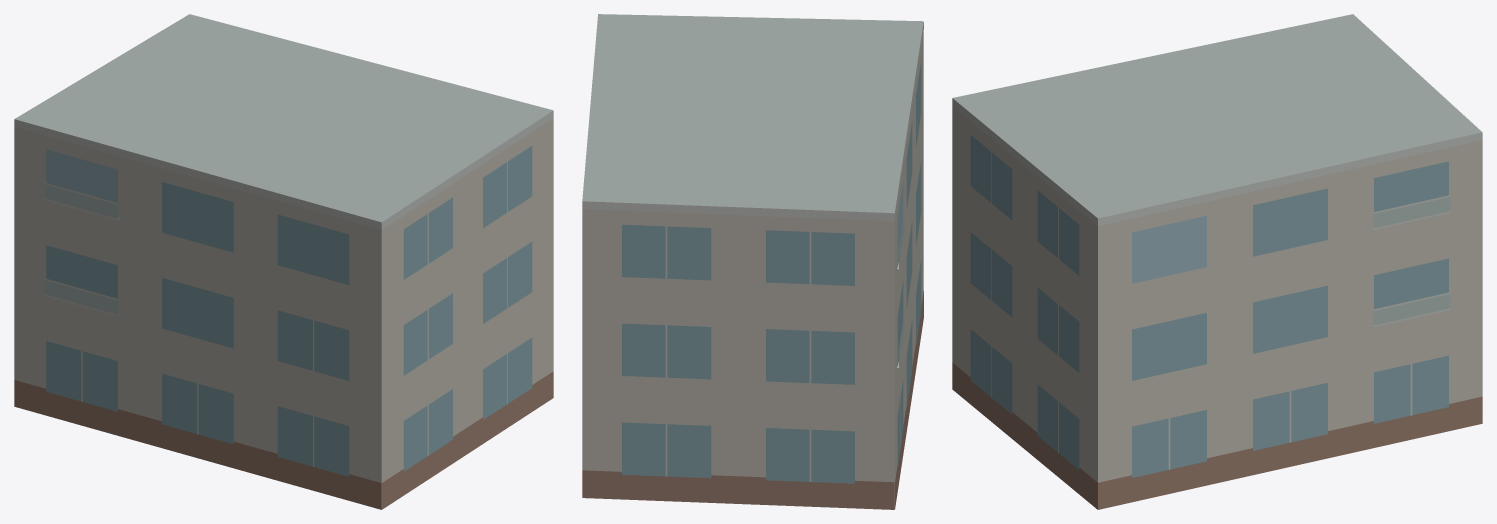
Rendered from survey-upis-32778413.glb.
The picture shows the model from 3 angles, left to right: view 1: azimuth 30°, elevation 25°; view 2: azimuth 150°, elevation 25°; view 3: azimuth 270°, elevation 25°; orthographic projection. The views are drawn at different scales.
Parts seen in each view (by area): view 1: survey-upis-32778413.tmp; view 2: survey-upis-32778413.tmp; view 3: survey-upis-32778413.tmp.
Part boxes in pixels (box(x1,y1,x2,y2)): survey-upis-32778413.tmp: box(14, 14, 553, 509); survey-upis-32778413.tmp: box(582, 14, 923, 509); survey-upis-32778413.tmp: box(952, 14, 1482, 509).
Bounding box in the file's own units: 13.78 × 9.15 × 15.1.
